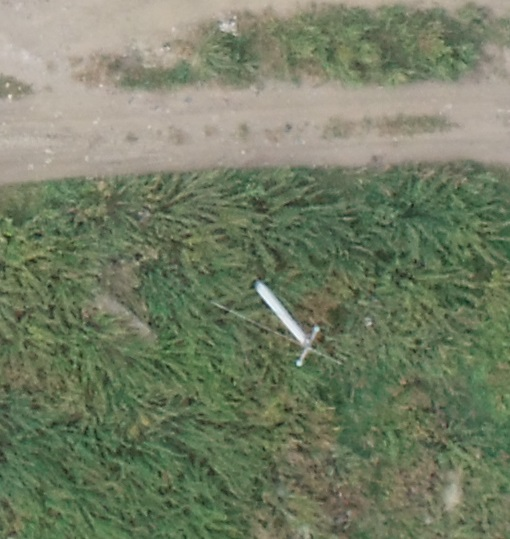opora: (251, 277, 323, 368)
